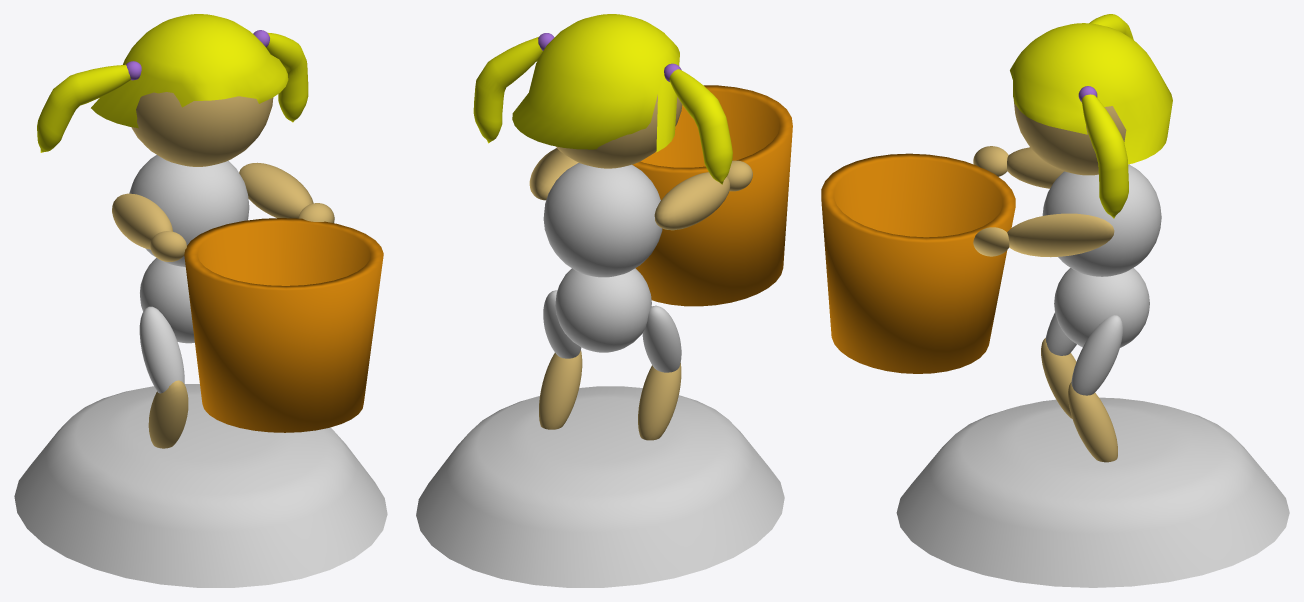
File: BB_Tower_White_Girl.fbx
The picture shows the model from 3 angles, left to right: view 1: azimuth 30°, elevation 25°; view 2: azimuth 150°, elevation 25°; view 3: azimuth 270°, elevation 25°; orthographic projection. The views are drawn at different scales.
Parts seen in each view (by area): view 1: Circle, Circle_002, Sphere_009; view 2: Circle, Sphere_009, Circle_002; view 3: Circle, Circle_002, Sphere_009.
Boxes of the visible parts, x1,y1,x2,y2 form: Circle: (14,384,387,587); Circle_002: (112,162,383,432); Sphere_009: (37,14,308,448); Circle: (416,386,784,587); Sphere_009: (473,14,732,440); Circle_002: (529,85,792,306); Circle: (896,397,1289,587); Circle_002: (821,146,1114,373); Sphere_009: (1010,14,1172,462).
Size of the model in its own units: 1.22 by 1.81 by 1.6.
